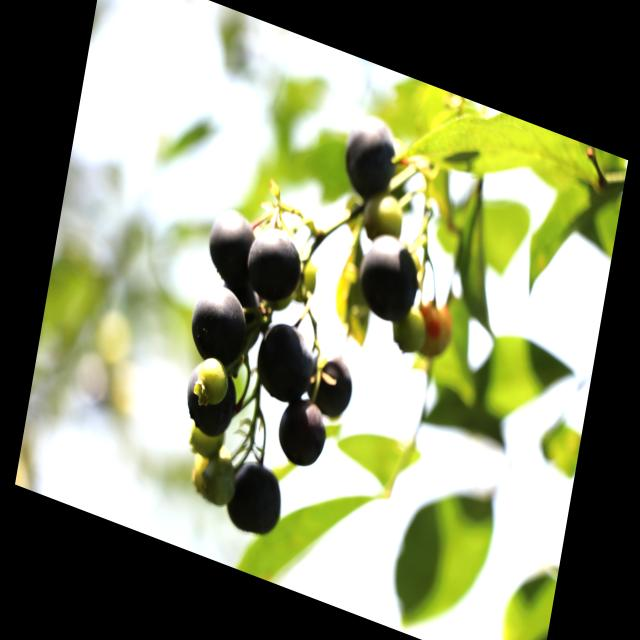blueberry: (354, 226, 427, 332), (177, 346, 245, 445), (337, 110, 404, 210), (185, 273, 253, 369), (221, 450, 290, 544), (254, 313, 316, 404), (243, 219, 306, 308), (202, 202, 259, 290), (303, 338, 360, 422), (274, 387, 330, 472)
blueberry-unripe: (196, 451, 238, 510), (191, 351, 232, 411)
